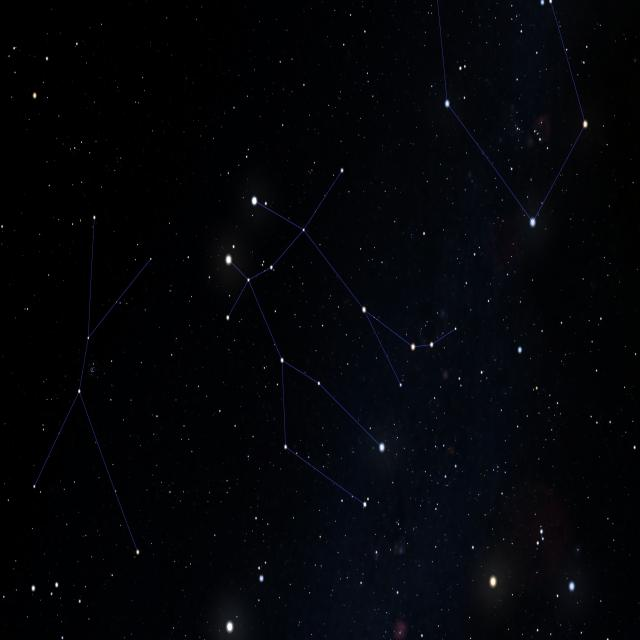Gemini: (194, 143, 462, 578)
